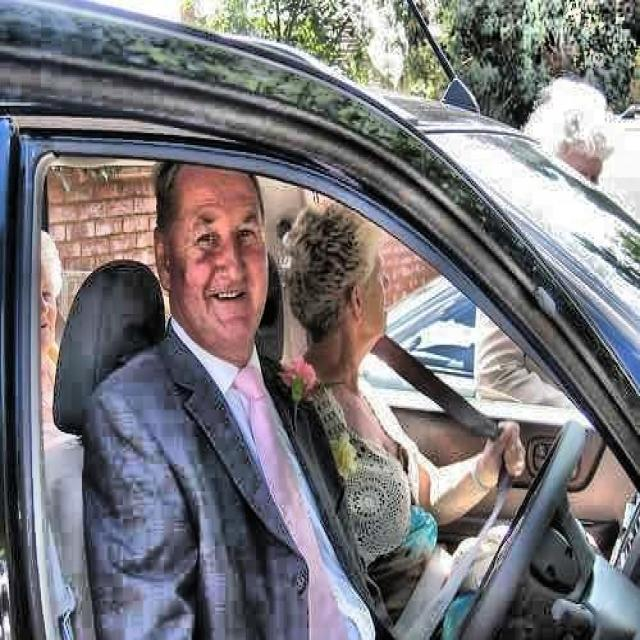bicycle: (115, 310, 376, 580)
car: (17, 9, 568, 628)
